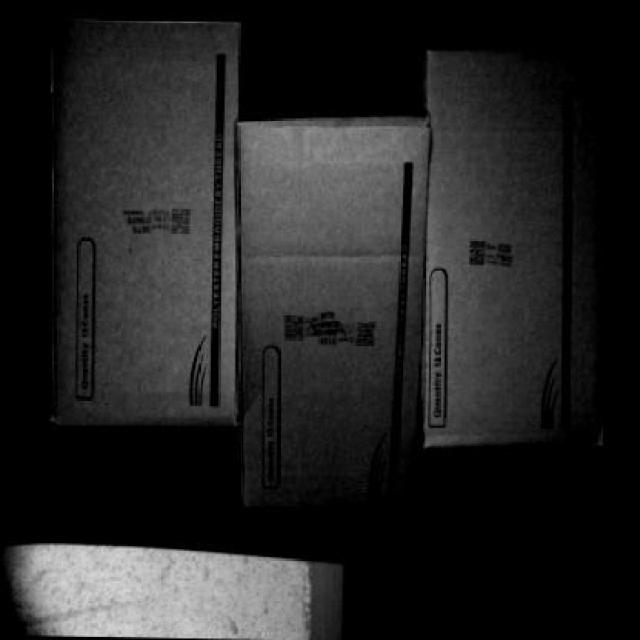cardboxes: (44, 12, 242, 414), (422, 51, 613, 449), (235, 129, 423, 508)
